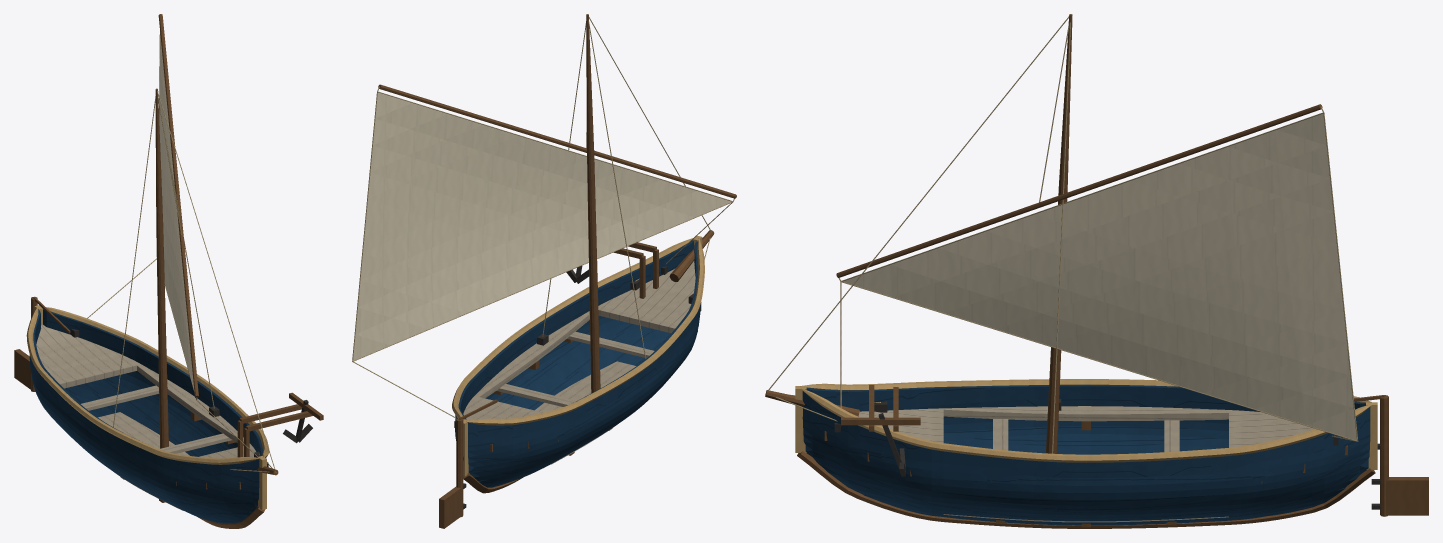
The picture shows the model from 3 angles, left to right: view 1: azimuth 30°, elevation 25°; view 2: azimuth 150°, elevation 25°; view 3: azimuth 270°, elevation 25°; orthographic projection. The views are drawn at different scales.
Visible parts, largest first — view 1: lod1_hull_shell_starboard, lod1_hull_shell_port, lod1_main_lateen_00, lod1_deck_stern, lod1_main, lod1_gunwale_starboard, lod1_main_lateen_00_lateen_yard, lod1_gunwale_port, lod1_deck_starboard_walkway, lod1_cockpit_sole, lod1_thwart_0, lod1_thwart_1 (+8 smaller); view 2: lod1_main_lateen_00, lod1_hull_shell_starboard, lod1_hull_shell_port, lod1_deck_bow, lod1_main, lod1_gunwale_starboard, lod1_main_lateen_00_lateen_yard, lod1_deck_starboard_walkway, lod1_gunwale_port, lod1_cockpit_sole, lod1_deck_stern, lod1_rudder_blade (+7 smaller); view 3: lod1_main_lateen_00, lod1_hull_shell_port, lod1_hull_shell_starboard, lod1_gunwale_port, lod1_deck_port_walkway, lod1_keel, lod1_main_lateen_00_lateen_yard, lod1_main, lod1_gunwale_starboard, lod1_deck_stern, lod1_rudder_blade, lod1_deck_bow (+5 smaller).
Part boxes in pixels (x1,y1,x2,y2): lod1_hull_shell_starboard: [29, 310, 259, 523]; lod1_hull_shell_port: [43, 309, 265, 457]; lod1_main_lateen_00: [159, 35, 194, 389]; lod1_deck_stern: [36, 324, 140, 388]; lod1_main: [155, 88, 168, 448]; lod1_gunwale_starboard: [26, 307, 260, 464]; lod1_main_lateen_00_lateen_yard: [158, 14, 198, 397]; lod1_gunwale_port: [46, 307, 269, 457]; lod1_deck_starboard_walkway: [137, 364, 250, 445]; lod1_cockpit_sole: [98, 412, 189, 510]; lod1_thwart_0: [81, 385, 159, 410]; lod1_thwart_1: [159, 433, 231, 453]; lod1_main_lateen_00: [353, 92, 731, 360]; lod1_hull_shell_starboard: [468, 241, 701, 487]; lod1_hull_shell_port: [455, 240, 693, 440]; lod1_deck_bow: [598, 261, 695, 333]; lod1_main: [586, 14, 600, 393]; lod1_gunwale_starboard: [466, 238, 704, 425]; lod1_main_lateen_00_lateen_yard: [378, 84, 736, 198]; lod1_deck_starboard_walkway: [475, 311, 589, 398]; lod1_gunwale_port: [452, 237, 695, 420]; lod1_cockpit_sole: [535, 361, 636, 464]; lod1_deck_stern: [463, 396, 542, 420]; lod1_rudder_blade: [439, 486, 461, 528]; lod1_main_lateen_00: [843, 113, 1356, 440]; lod1_hull_shell_port: [802, 391, 1370, 525]; lod1_hull_shell_starboard: [806, 384, 1365, 454]; lod1_gunwale_port: [801, 388, 1371, 462]; lod1_deck_port_walkway: [943, 406, 1228, 421]; lod1_keel: [797, 451, 1375, 528]; lod1_main_lateen_00_lateen_yard: [836, 104, 1322, 277]; lod1_main: [1046, 14, 1072, 453]; lod1_gunwale_starboard: [800, 379, 1371, 402]; lod1_deck_stern: [1229, 410, 1314, 447]; lod1_rudder_blade: [1386, 477, 1428, 515]; lod1_deck_bow: [858, 408, 943, 442].
Size of the model in its own units: 4.12 by 8.95 by 10.46.
7 materials, 7 textured.
